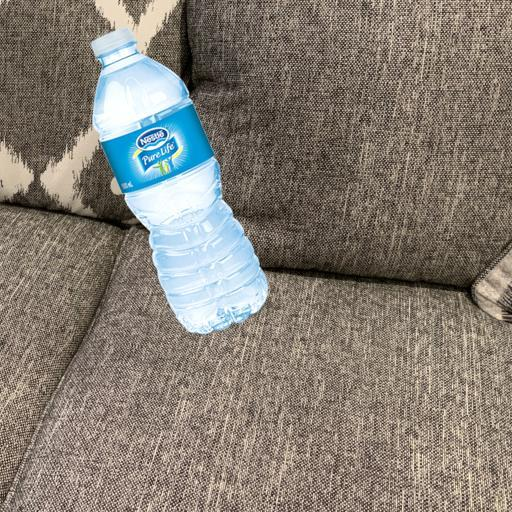bottle: (0, 0, 107, 191)
